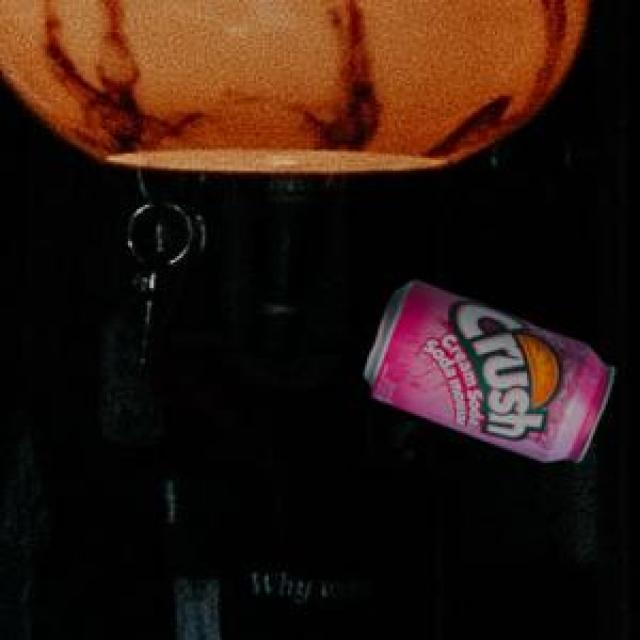Can: (362, 278, 611, 458)
